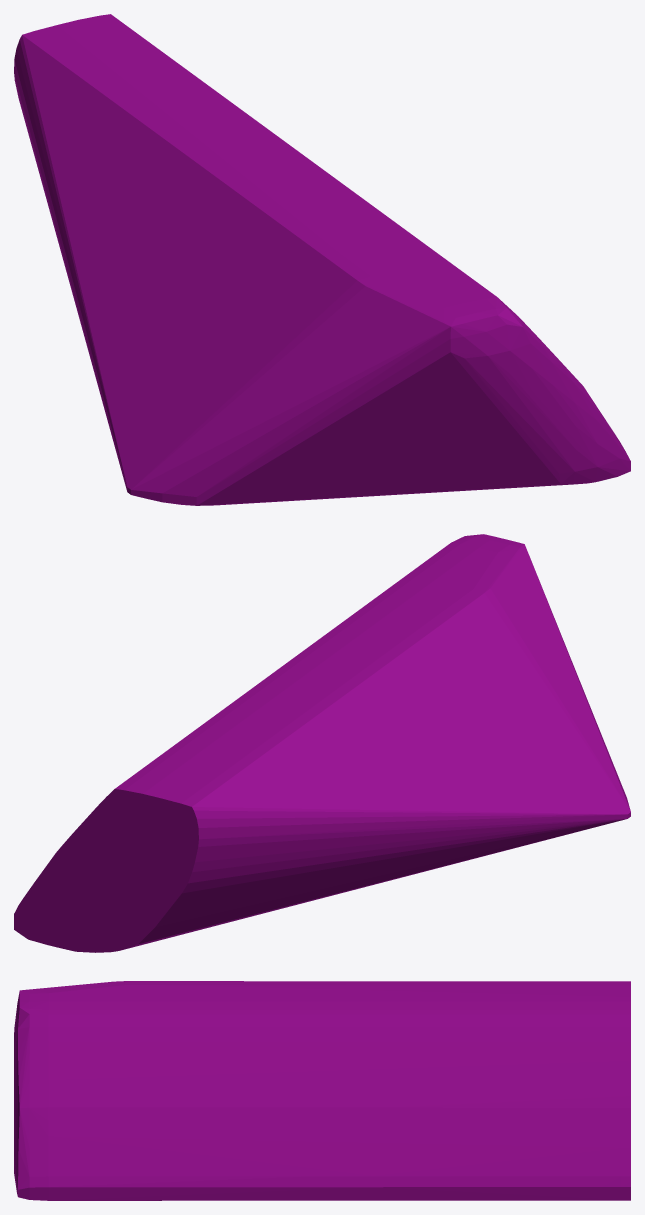
File: right_shoulder_roll_link_part_14.obj
3 renders of one model, top to bottom at view 1: azimuth 30°, elevation 25°; view 2: azimuth 150°, elevation 25°; view 3: azimuth 270°, elevation 25°, orthographic. The views are drawn at different scales.
Size of the model in its own units: 0.0183 by 0.0087 by 0.0322.
